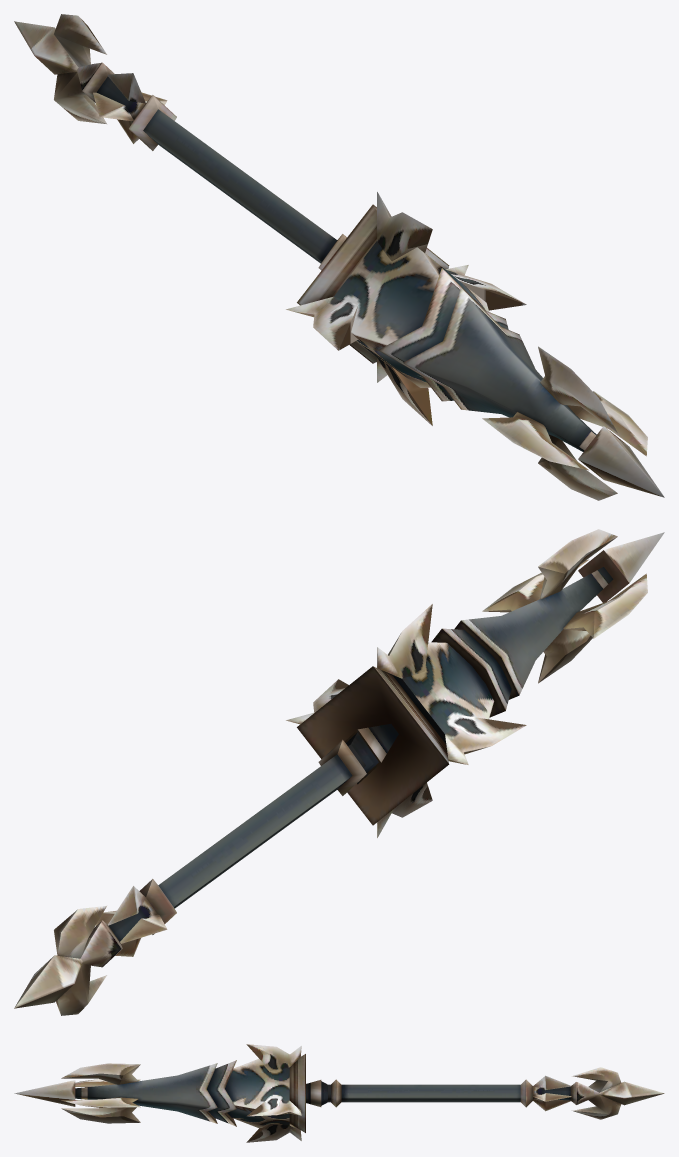
3 renders of one model, top to bottom at view 1: azimuth 30°, elevation 25°; view 2: azimuth 150°, elevation 25°; view 3: azimuth 270°, elevation 25°, orthographic. The views are drawn at different scales.
Visible parts, largest first — view 1: mLance; view 2: mLance; view 3: mLance.
Part boxes in pixels (left/top/right/bottom): mLance: left=14, top=14, right=664, bottom=500; mLance: left=14, top=529, right=664, bottom=1015; mLance: left=14, top=1044, right=664, bottom=1142.
Size of the model in its own units: 0.1944 by 0.1944 by 1.16.
Materials: 1 (1 with a texture image).
